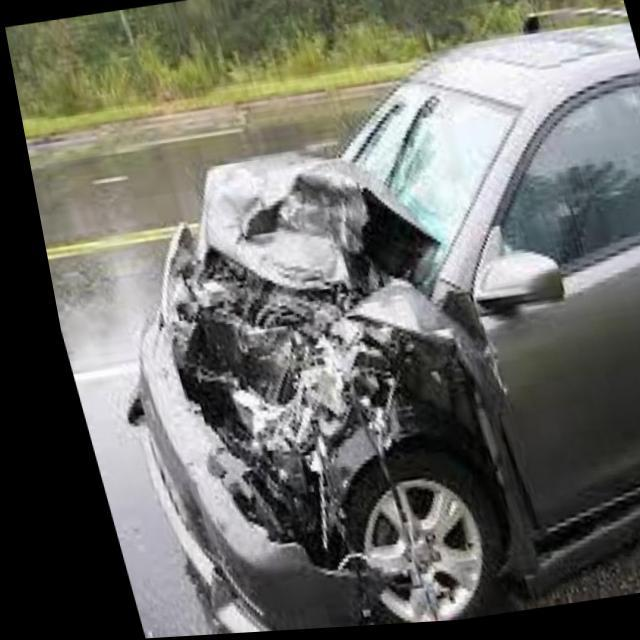no part: (132, 155, 522, 628)
